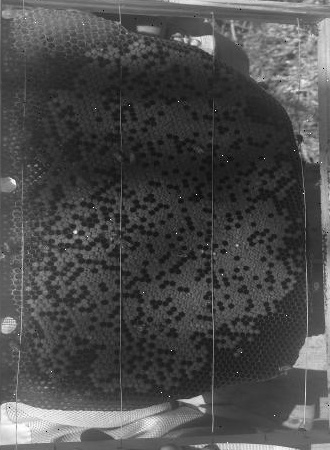cria: (25, 36, 309, 395)
